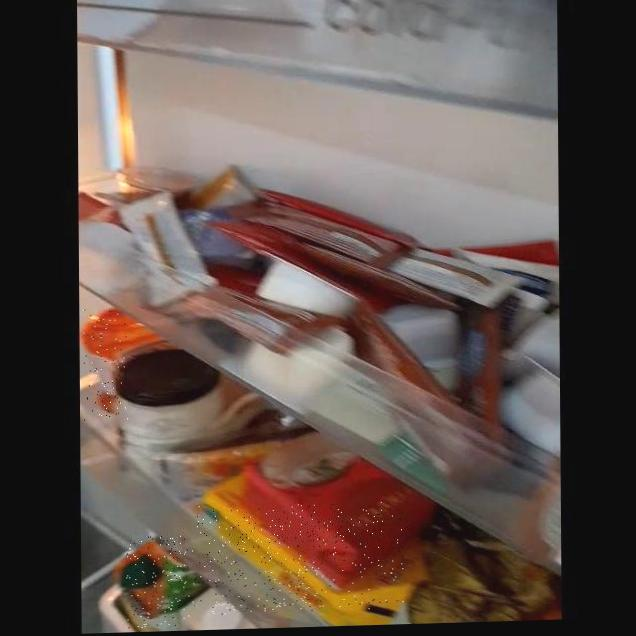butter: (191, 500, 404, 615)
juice: (125, 535, 190, 628)
sauce: (83, 308, 128, 421)
